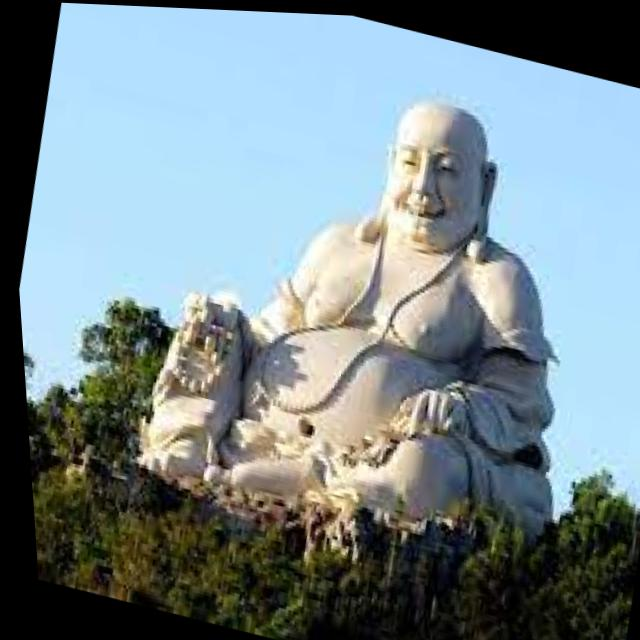Smiling Buddha: (200, 53, 587, 525)
